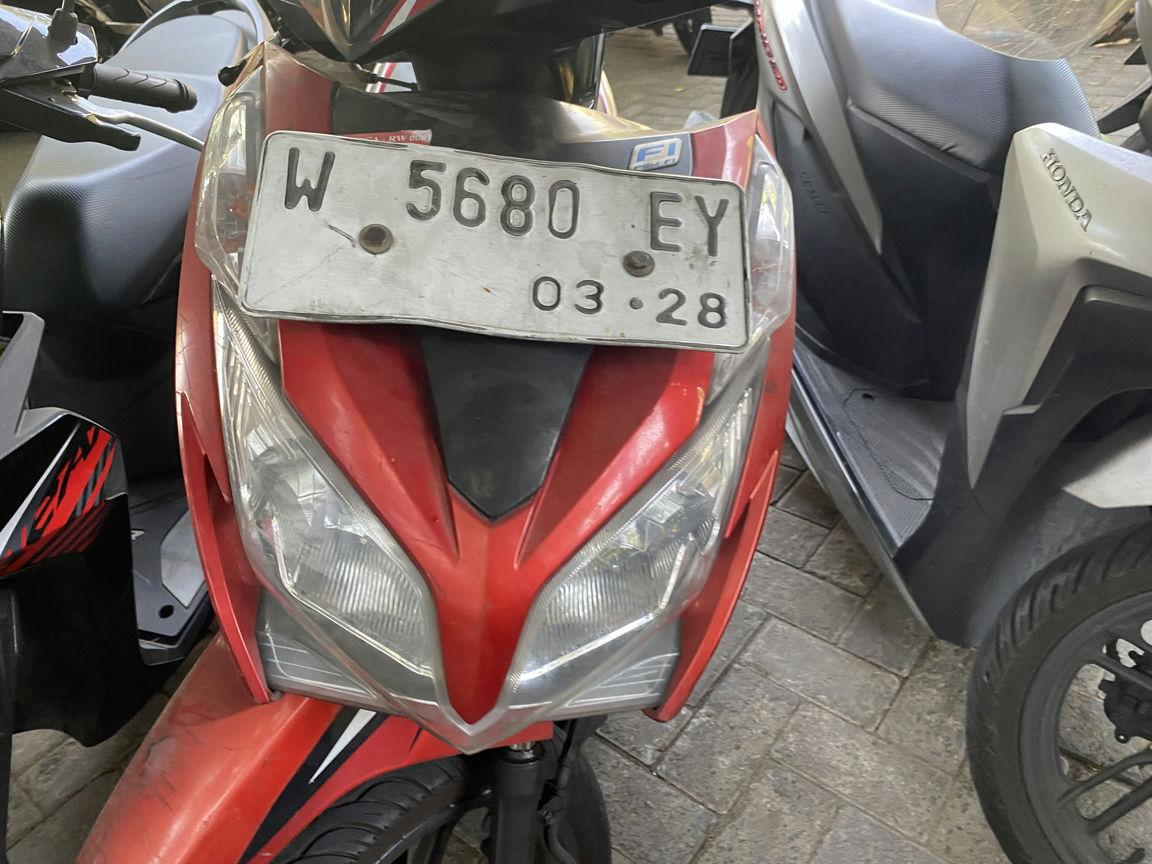plat: (238, 130, 754, 351)
